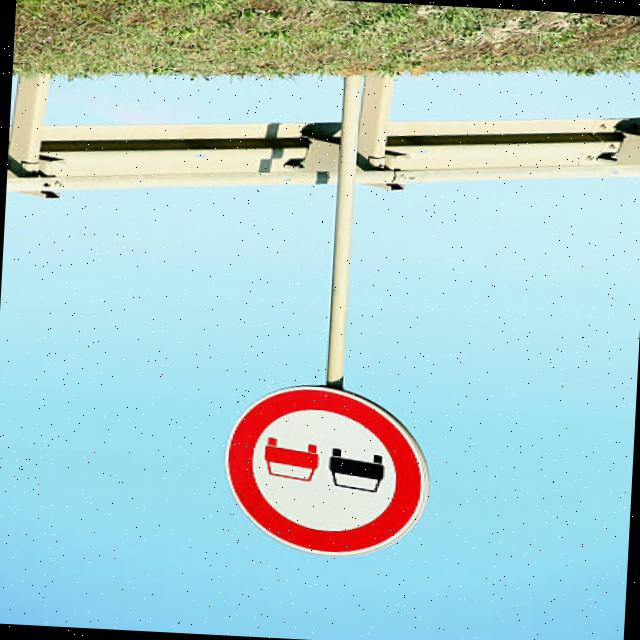no_passing: (204, 372, 447, 568)
